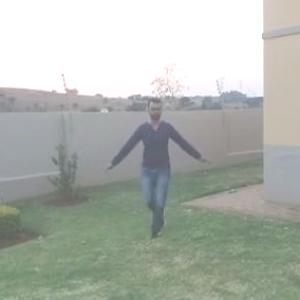land: (99, 86, 207, 246)
